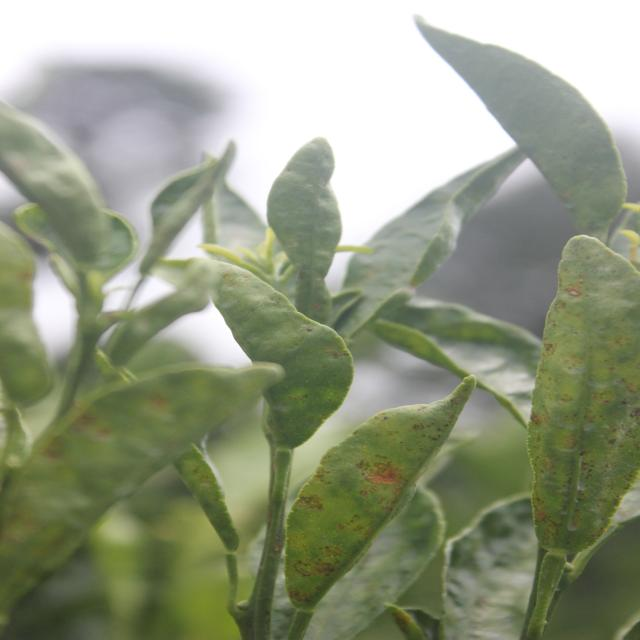canker: (280, 379, 478, 596), (532, 243, 640, 542), (7, 377, 206, 516), (221, 264, 345, 435)
